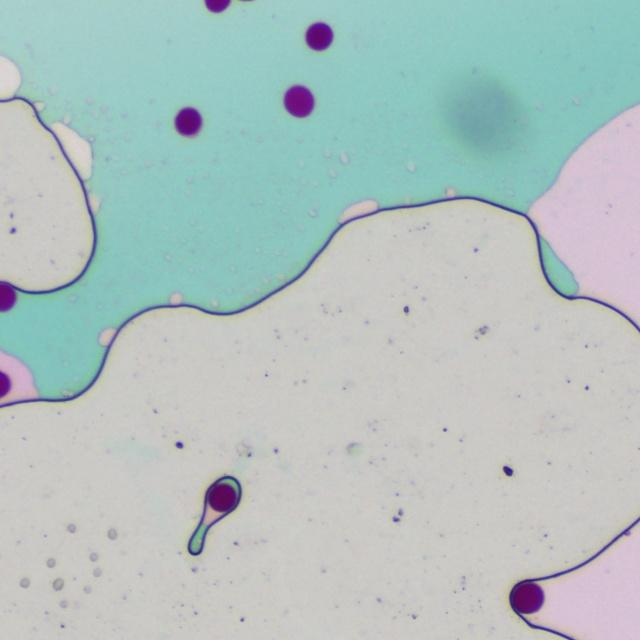viable: (511, 582, 543, 613), (284, 85, 314, 117), (209, 483, 236, 511), (175, 107, 201, 135), (306, 22, 332, 50), (0, 282, 15, 311), (205, 0, 230, 12), (0, 371, 10, 398)
